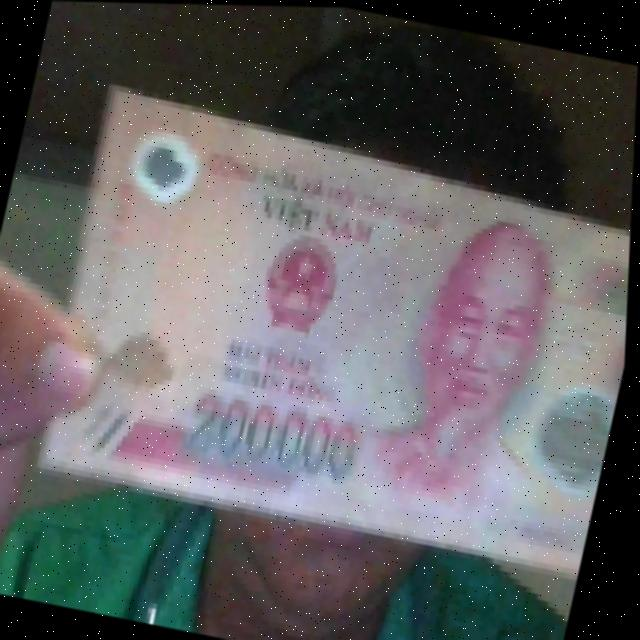200 000 VND: (20, 65, 638, 577)
